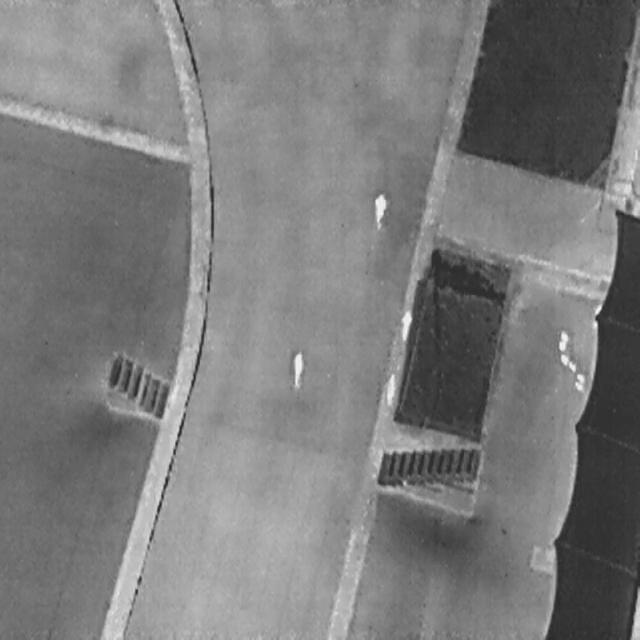Person: (395, 306, 414, 342), (371, 189, 387, 230), (383, 367, 396, 408), (291, 348, 304, 387)
